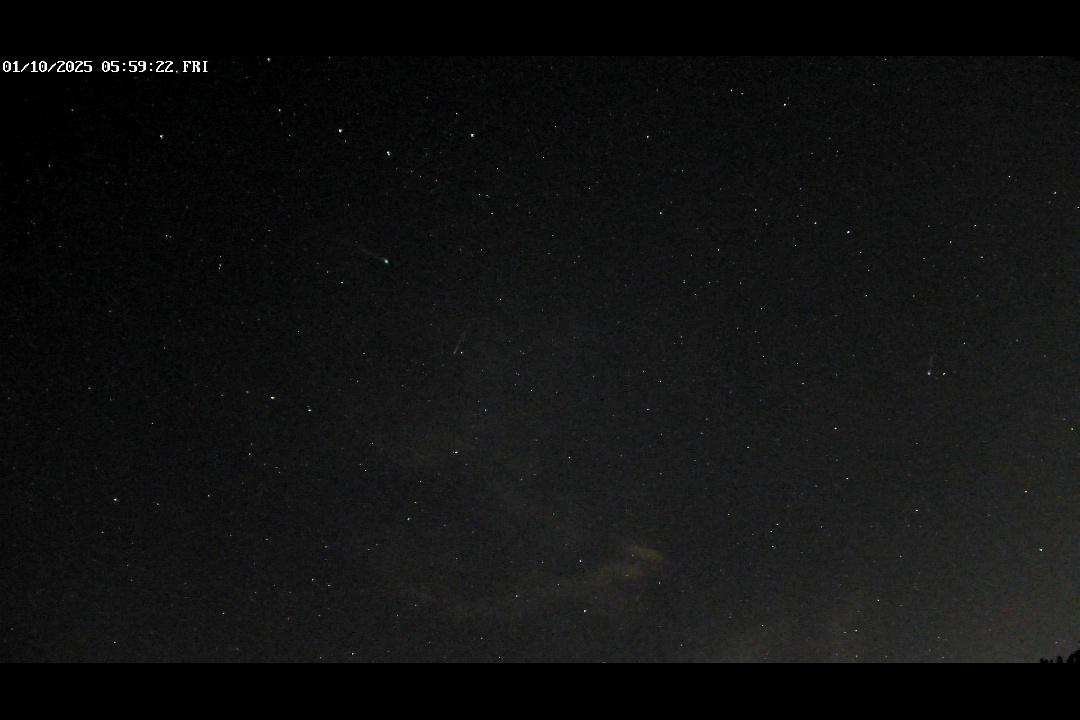Plane: (354, 246, 394, 268), (450, 329, 468, 359), (925, 357, 938, 379)
